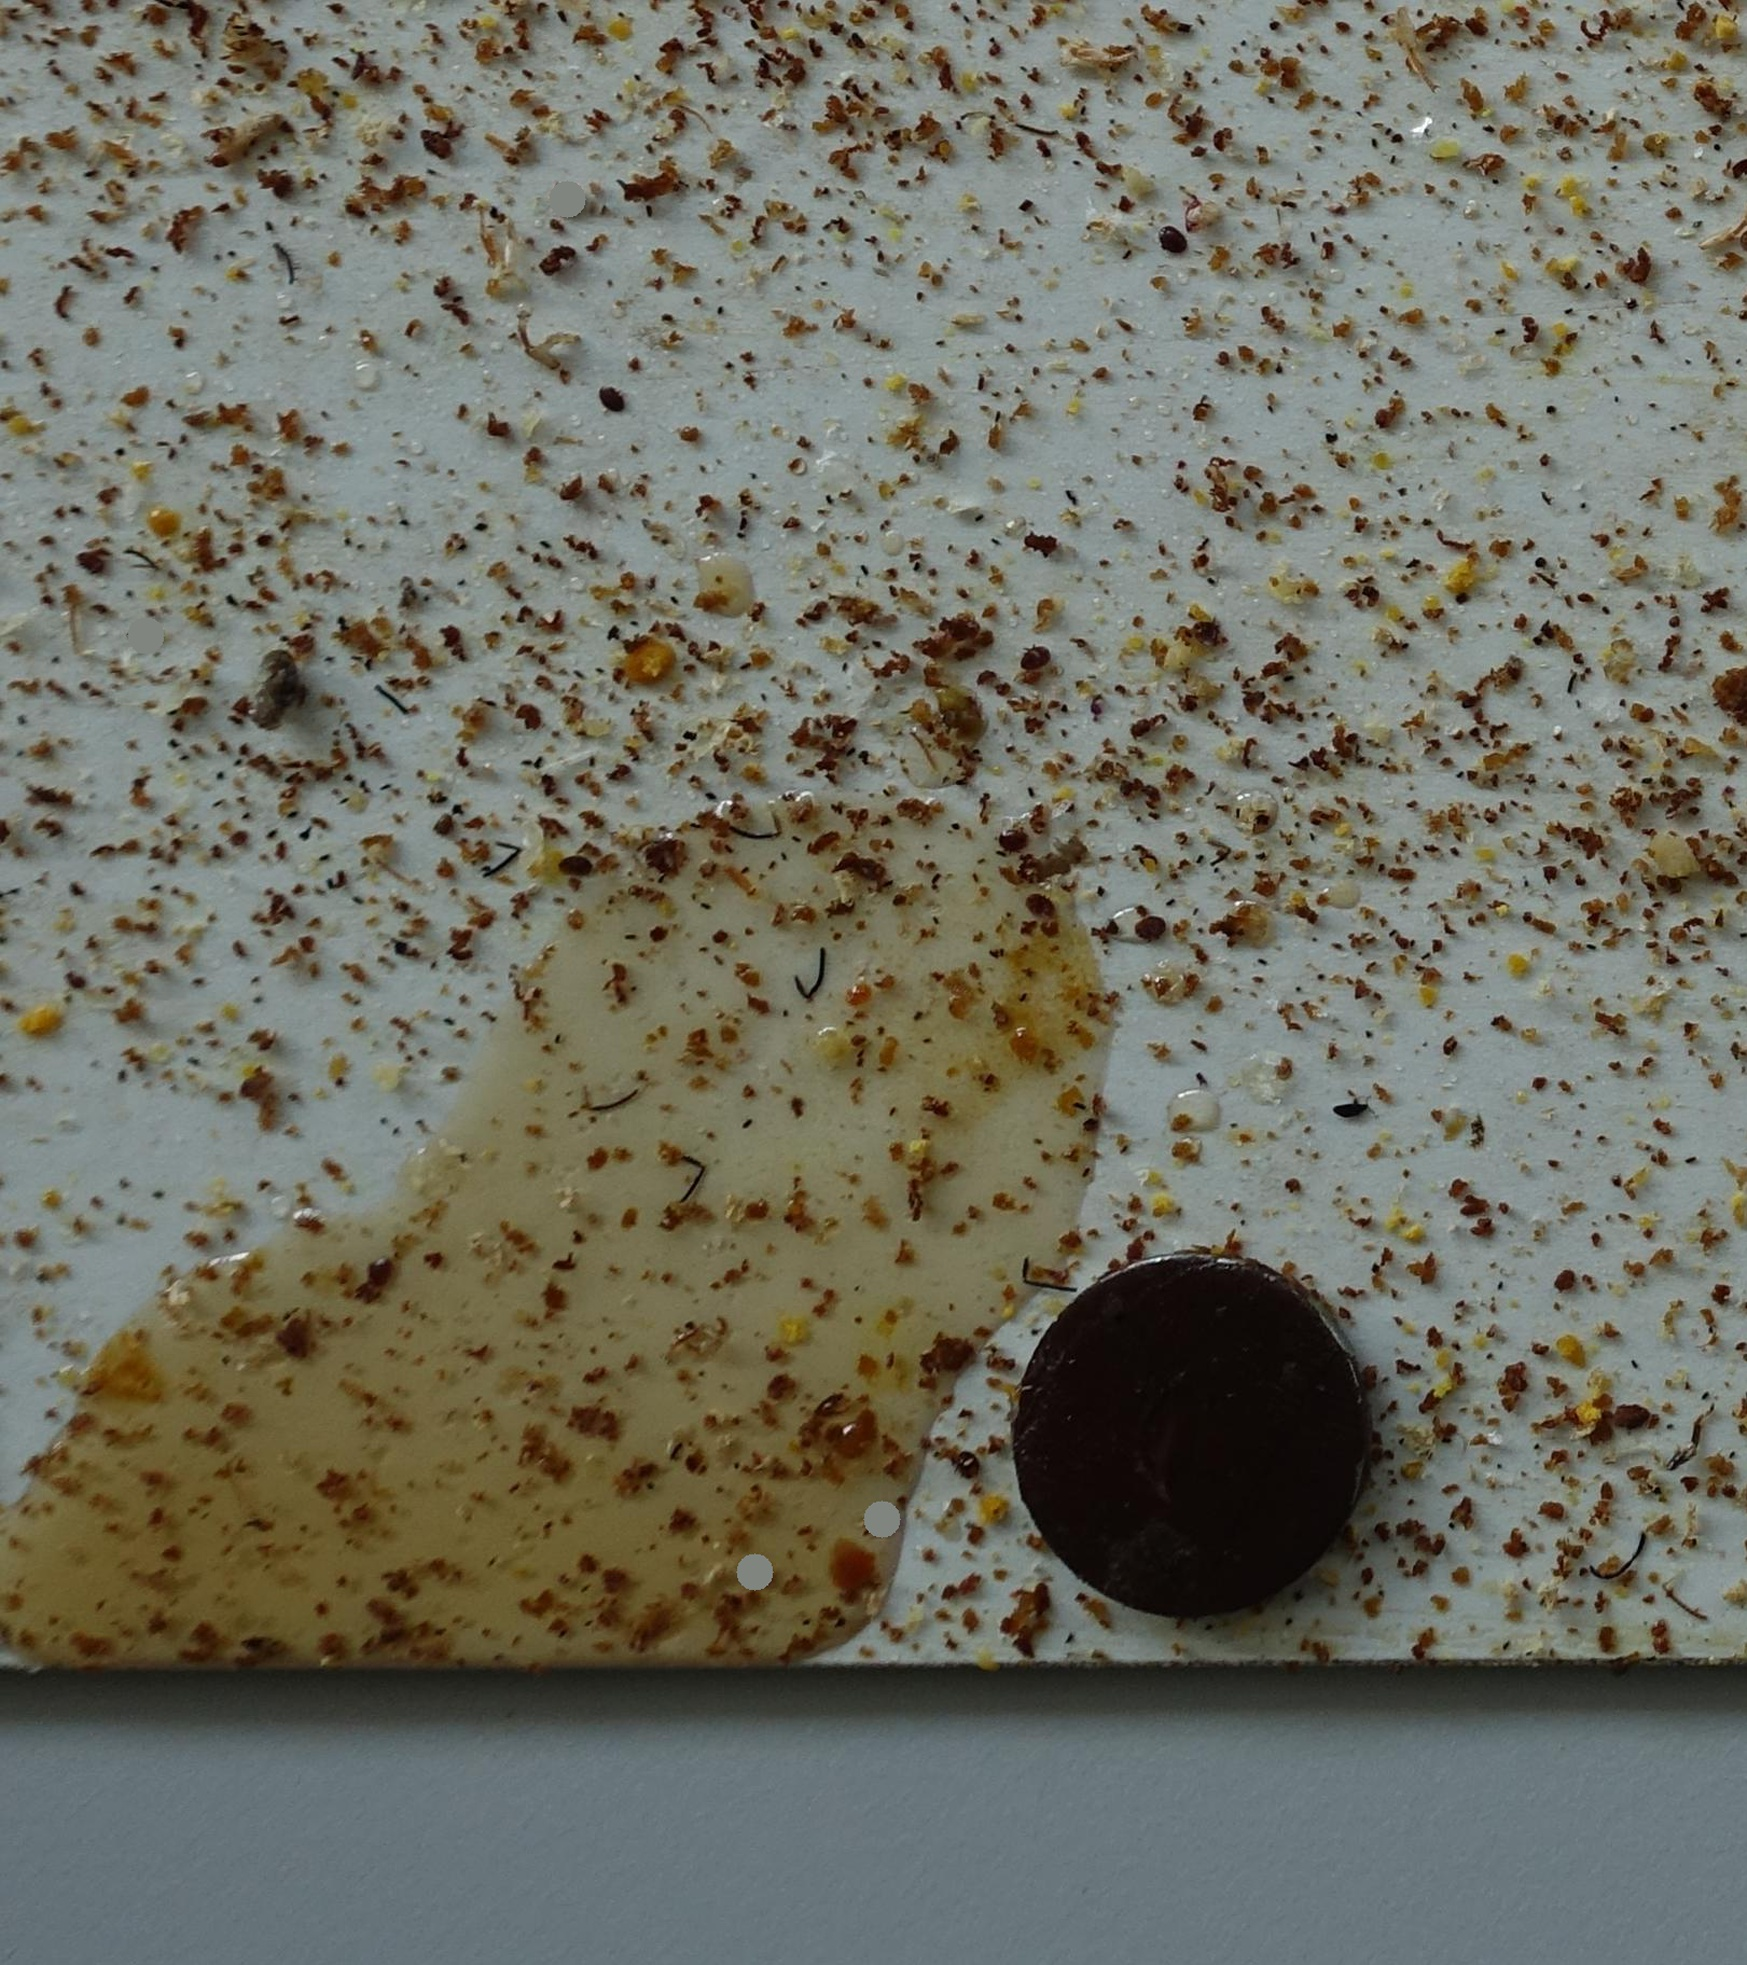Varroa: (369, 1255, 398, 1282), (1164, 226, 1191, 253), (1027, 894, 1052, 923), (1138, 914, 1164, 941), (568, 847, 594, 874), (604, 390, 622, 417), (1034, 648, 1052, 671), (1199, 622, 1219, 639), (960, 1452, 980, 1469), (1007, 828, 1025, 843)
